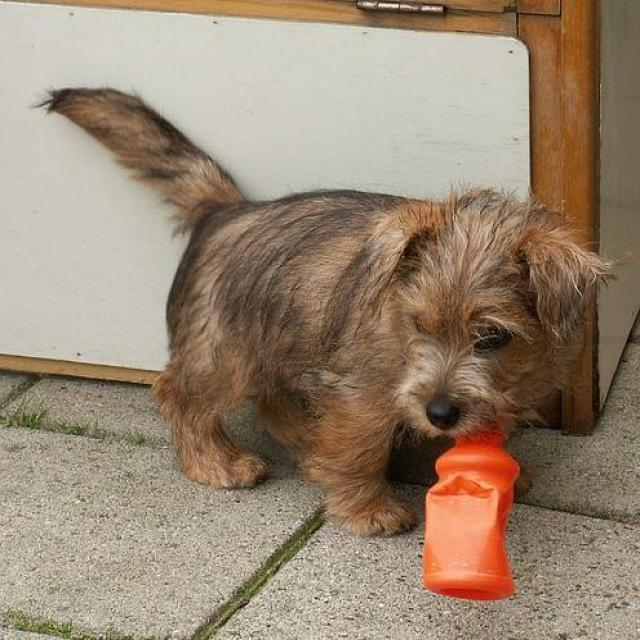dogs: (54, 52, 602, 506)
